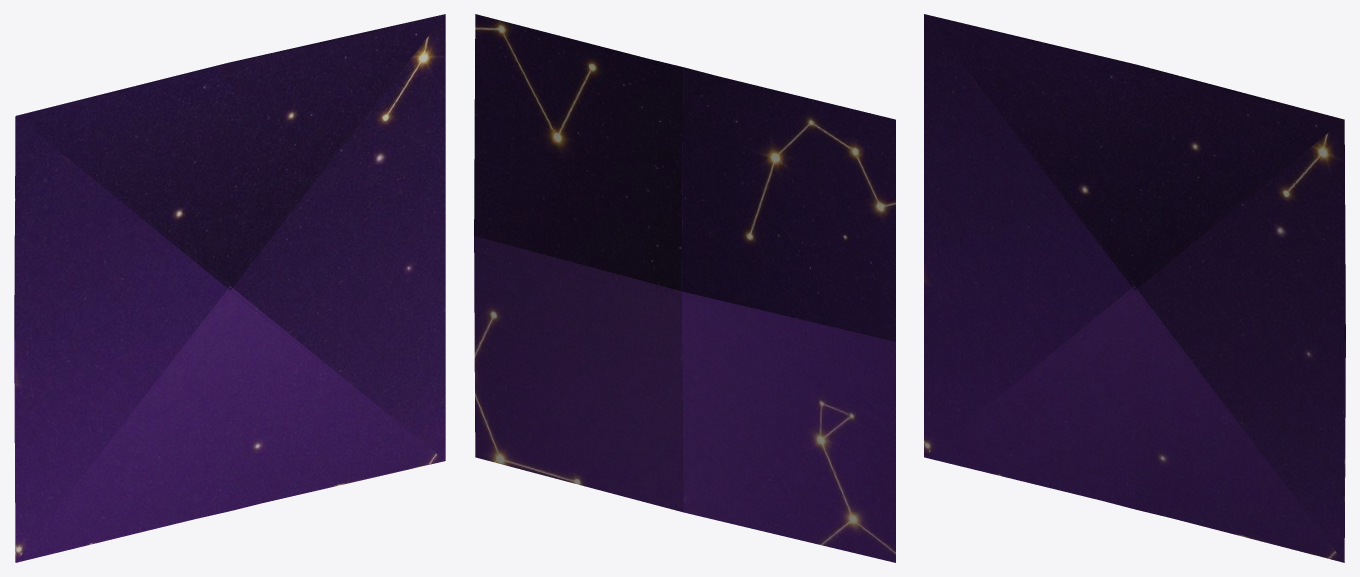
The picture shows the model from 3 angles, left to right: view 1: azimuth 30°, elevation 25°; view 2: azimuth 150°, elevation 25°; view 3: azimuth 330°, elevation 25°; orthographic projection.
Visible parts, largest first — view 1: Origami_Model_15.001; view 2: Origami_Model_15.001; view 3: Origami_Model_15.001.
Boxes of the visible parts, left/top/right/bottom form: Origami_Model_15.001: left=14, top=14, right=445, bottom=562; Origami_Model_15.001: left=474, top=14, right=895, bottom=562; Origami_Model_15.001: left=924, top=14, right=1345, bottom=562.
Size of the model in its own units: 0.101 by 0.101 by 0.00226.
1 material, 1 textured.
